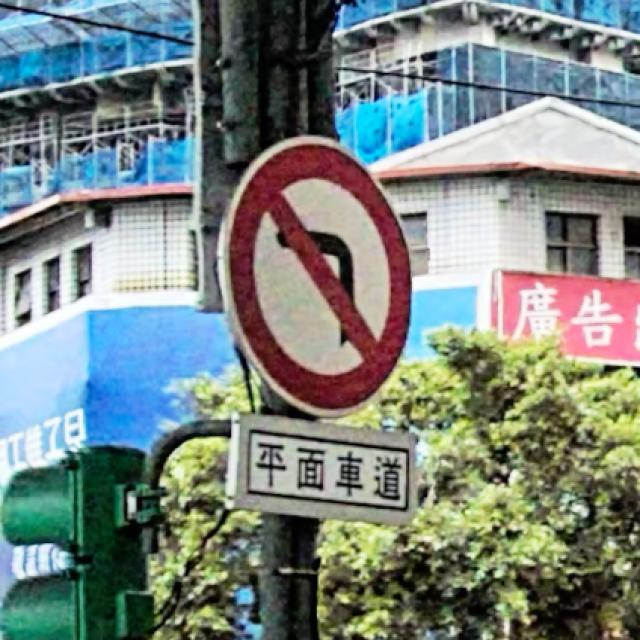noturnleft: (229, 146, 411, 409)
